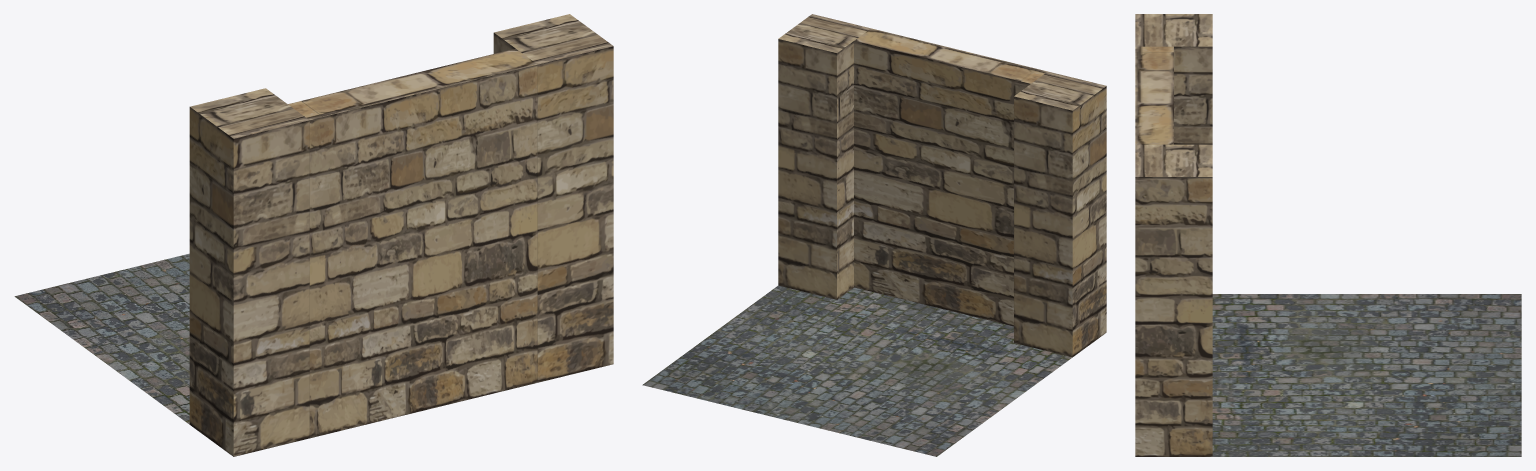
File: 1-NEW-southWall.fbx
3 views of the same model, side by side, from view 1: azimuth 30°, elevation 25°; view 2: azimuth 150°, elevation 25°; view 3: azimuth 270°, elevation 25° (orthographic). The views are drawn at different scales.
Parts seen in each view (by area): view 1: Cube_1, Plane; view 2: Cube_1, Plane; view 3: Plane, Cube_1.
Part boxes in pixels (x1,y1,x2,y2): Cube_1: (189, 14, 613, 456); Plane: (14, 253, 189, 424); Cube_1: (778, 14, 1106, 357); Plane: (642, 285, 1072, 456); Plane: (1212, 294, 1521, 456); Cube_1: (1135, 14, 1212, 456).
Bounding box in the file's own units: 10 × 8 × 10.
3 materials, 3 textured.
